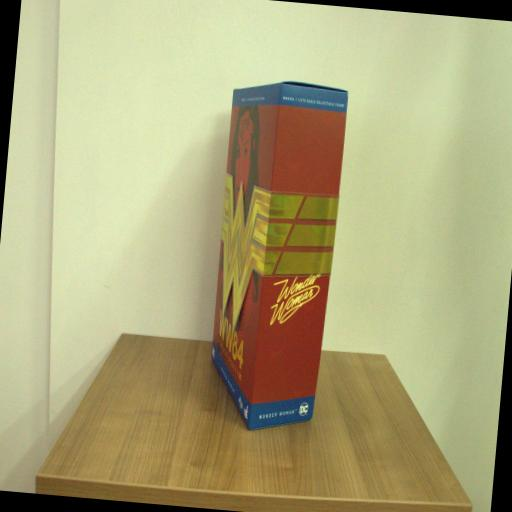WonderWoman: (202, 76, 350, 440)
